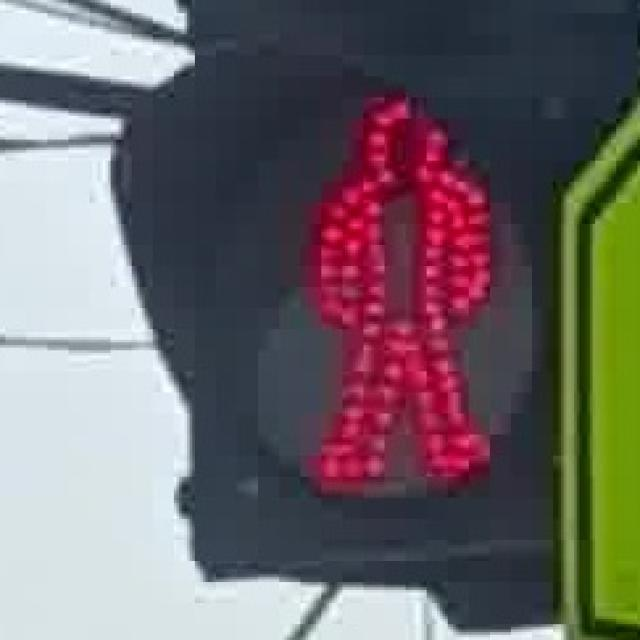red_light: (276, 68, 511, 506)
